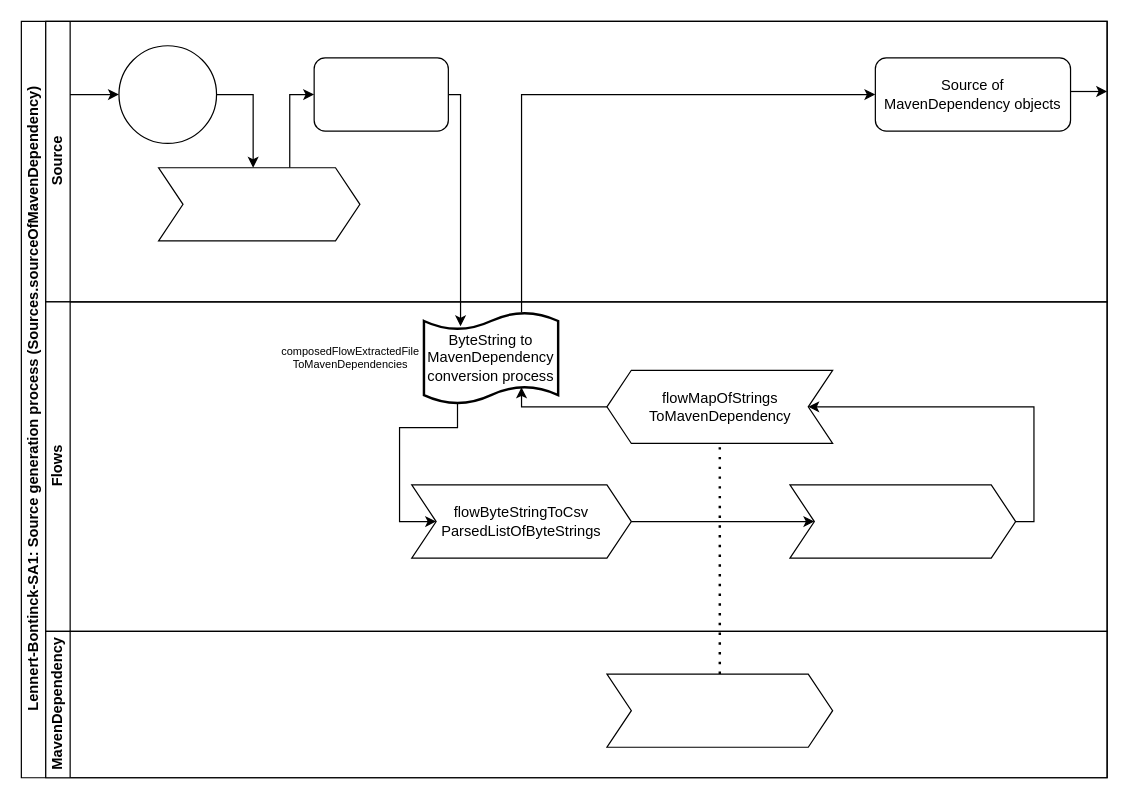
This 1138x799 diagram has some shape labels left out. Here are the shapes that lost their labels. From the top down, the centre of each, then its label:
At (380,94): "Source of ByteString objects".
At (258,204): "sourceOfByteString".
At (902,521): "flowCsvParsedListOfByte StringsToMapOfStrings".
At (719,710): "apply".
